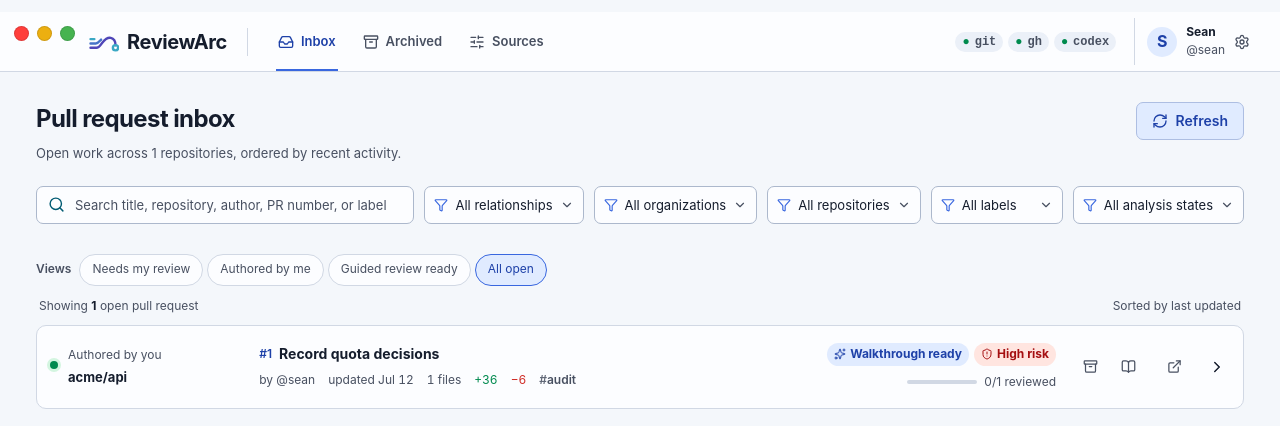
Test: App startup › keeps a compact, explained action available for analyzed pull requests
This screenshot has width=1280, height=426.
Focus the button named "Open review for acme/api pull request #1" at (1128, 367), box [1112,351,1144,383]
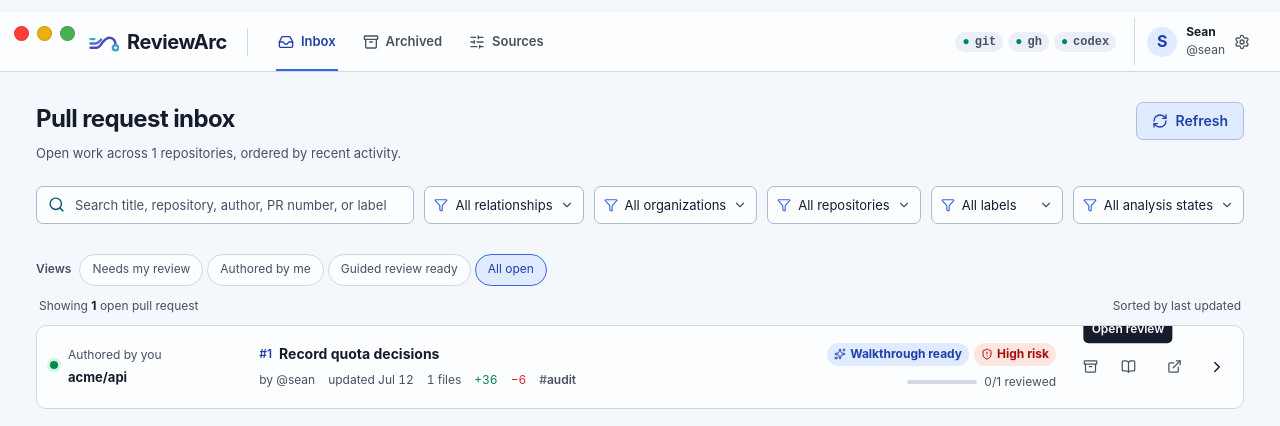
Now the tooltip reads "Open review", box [1092,325,1164,336]
Leave the button named "Open review for acme/api pull request #1", box [1112,351,1144,383]
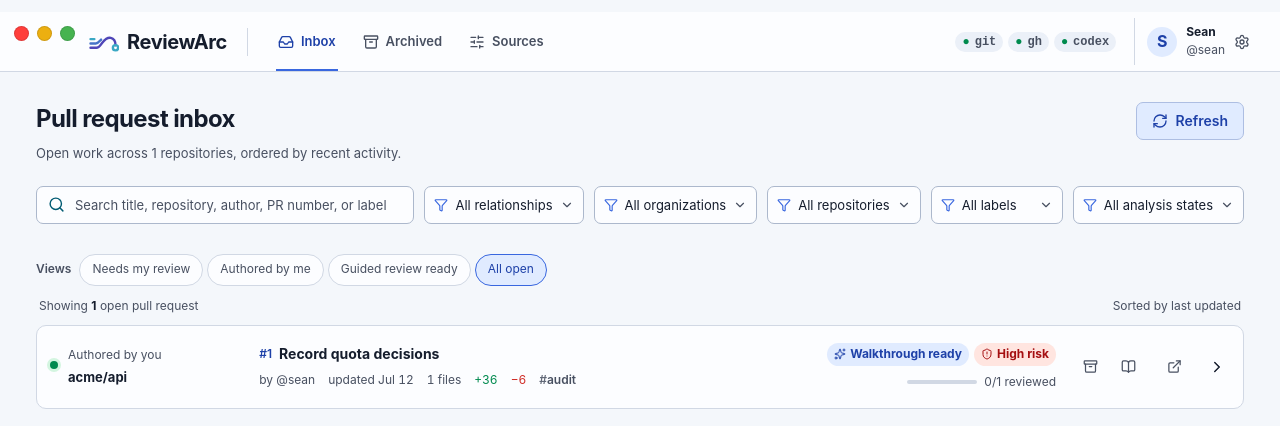
Now the tooltip "Open review" is gone
